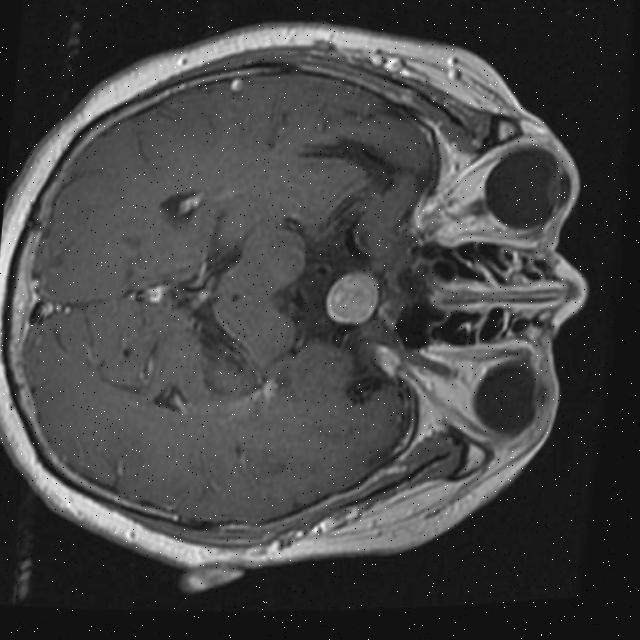Pituitary: (325, 271, 378, 327)
